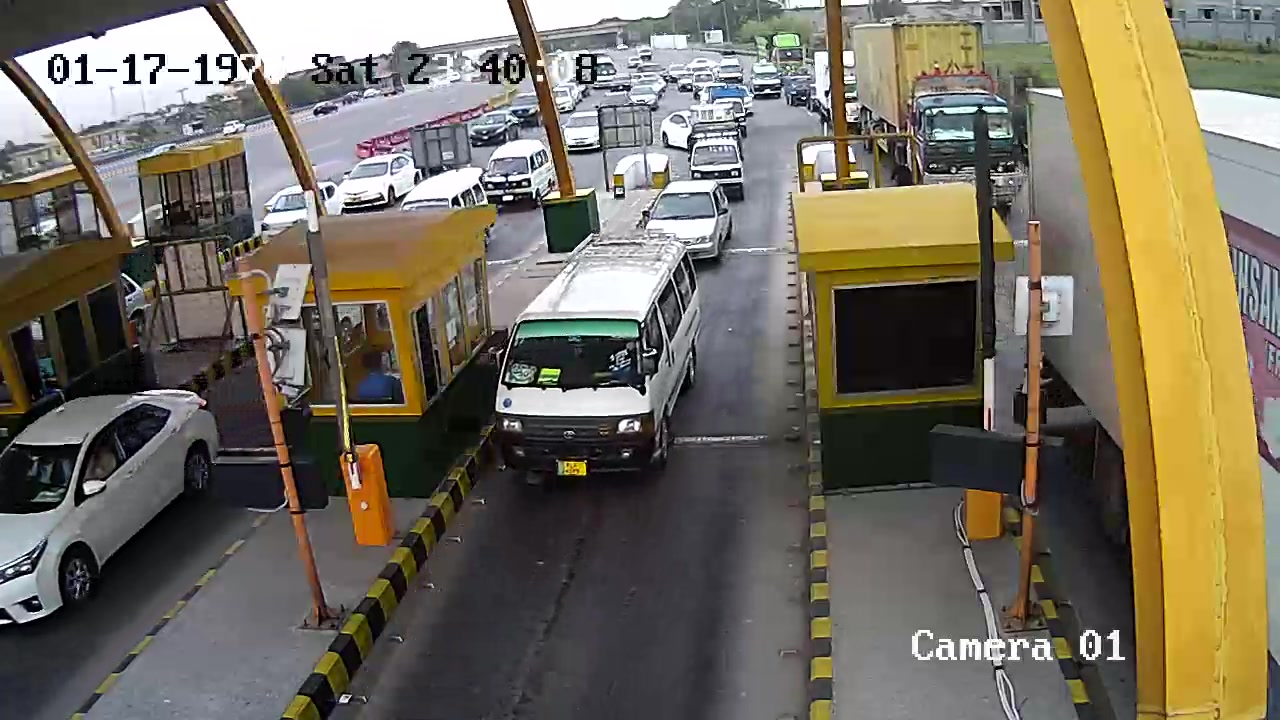F3: (494, 232, 710, 493)
